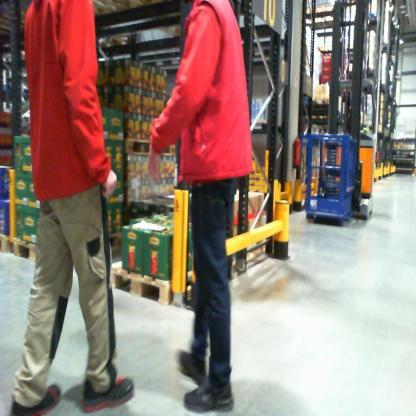pallets: (109, 264, 173, 307), (0, 230, 38, 263)
